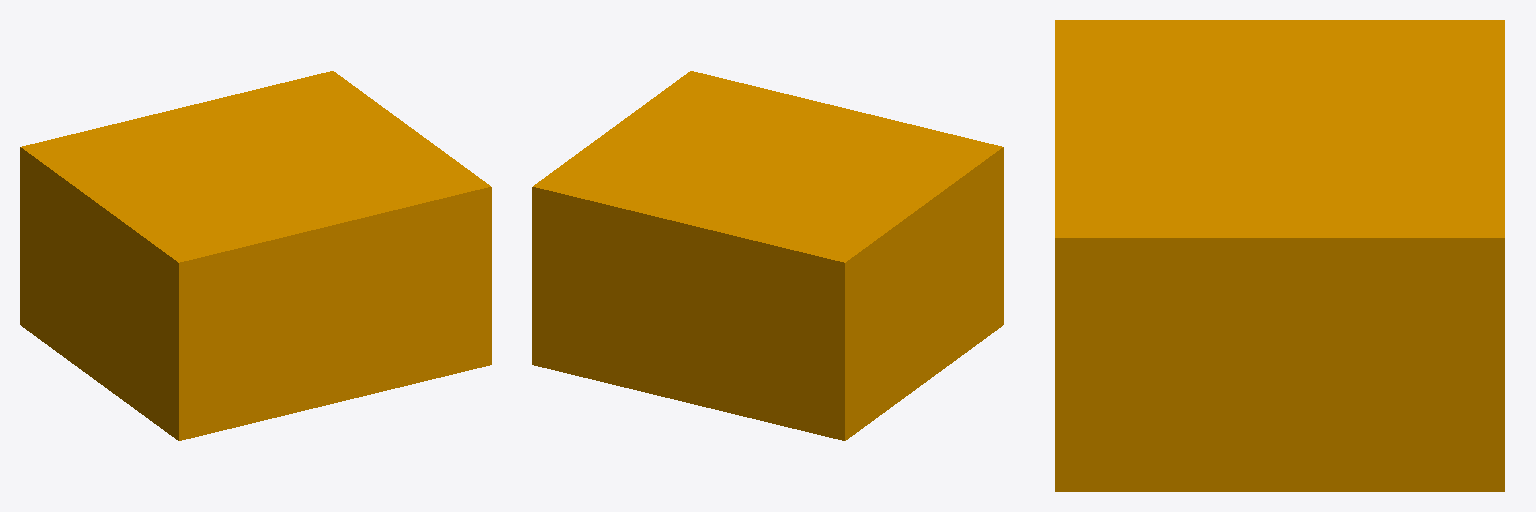
The robot description file, URDF, robot "2x2":
<?xml version='1.0' encoding='UTF-8'?>
<robot name="2x2">
  <link name="base_link">
    <inertial>
      <origin xyz="0.0 0.0 0.0" rpy="0.0 0.0 0.0"/>
      <mass value="0.01"/>
      <inertia ixx="0.1" ixy="0.0" ixz="0.0" iyy="0.1" iyz="0.0" izz="0.1"/>
    </inertial>
    <visual>
      <geometry>
        <box size="0.022  0.0193 0.012 "/>
      </geometry>
      <material name=""/>
      <origin xyz="0.0 0.0 0.0" rpy="0.0 0.0 0.0"/>
    </visual>
    <collision>
      <geometry>
        <box size="0.022  0.0193 0.012 "/>
      </geometry>
      <origin xyz="0.0 0.0 0.0" rpy="0.0 0.0 0.0"/>
    </collision>
  </link>
  <material name="">
    <color rgba="1. 1. 1. 1."/>
  </material>
  <contact>
    <lateral_friction value="1.0"/>
    <rolling_friction value="0.0"/>
    <contact_cfm value="0.0"/>
    <contact_erp value="1.0"/>
  </contact>
</robot>

--- What the picture shows (computed from the rendered views, not written in the file) ---
The picture shows the robot from 3 angles, left to right: view 1: azimuth 30°, elevation 25°; view 2: azimuth 150°, elevation 25°; view 3: azimuth 270°, elevation 25°; orthographic projection.
Robot: 2x2 — 1 links, 0 joints (none); root link base_link; default pose: all joints at 0.
Links seen in each view (by area): view 1: base_link; view 2: base_link; view 3: base_link.
Boxes of the visible links, bbox=[...] form: base_link: bbox=[20, 71, 491, 440]; base_link: bbox=[532, 71, 1003, 440]; base_link: bbox=[1055, 20, 1504, 491].
Size in the robot's own frame: 0.022 by 0.0193 by 0.012 metres.
Geometry: primitives only (box / cylinder / sphere), no mesh files.